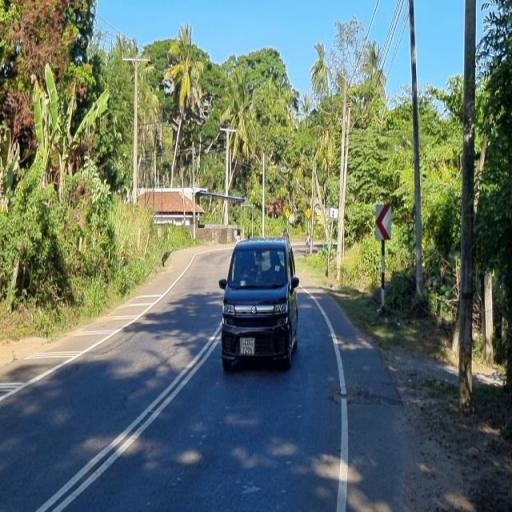double_white_line: (35, 325, 218, 512)
